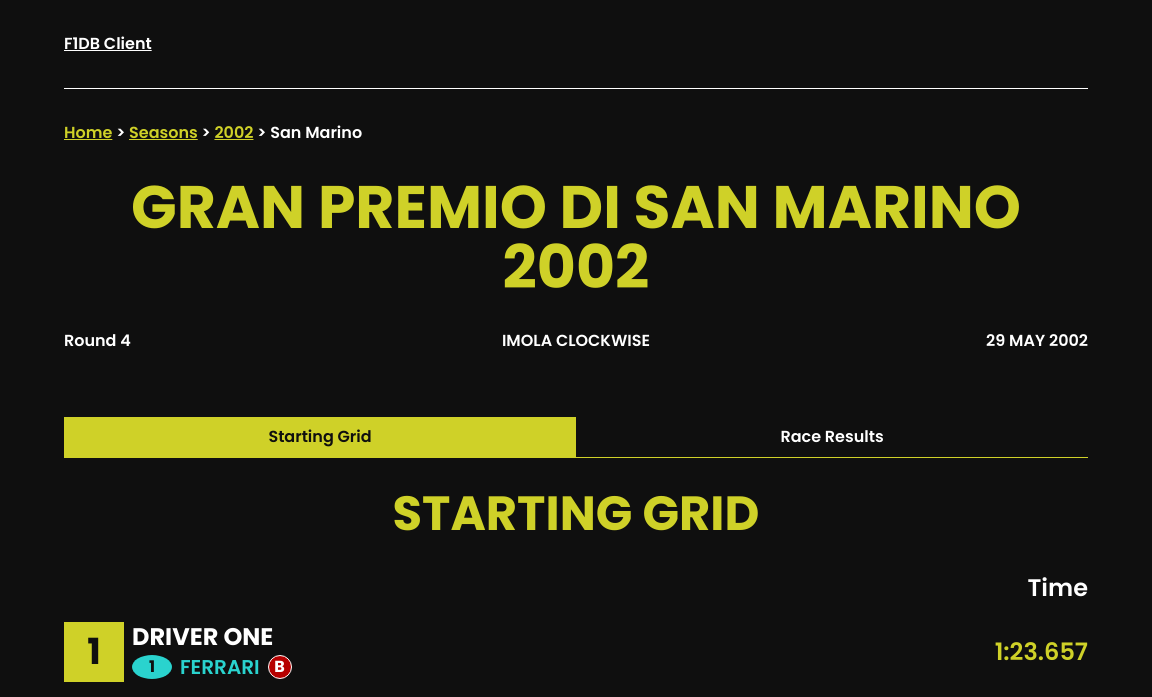
SeasonGrandPrixPage (Race tab, scenario 1) › should display the retirement reason in the race time column if the driver DNS or DNF
This screenshot has width=1152, height=697.
Click the button "Race Results" at coordinates (832, 437), box [576,417,1088,457]
(page scrolled)
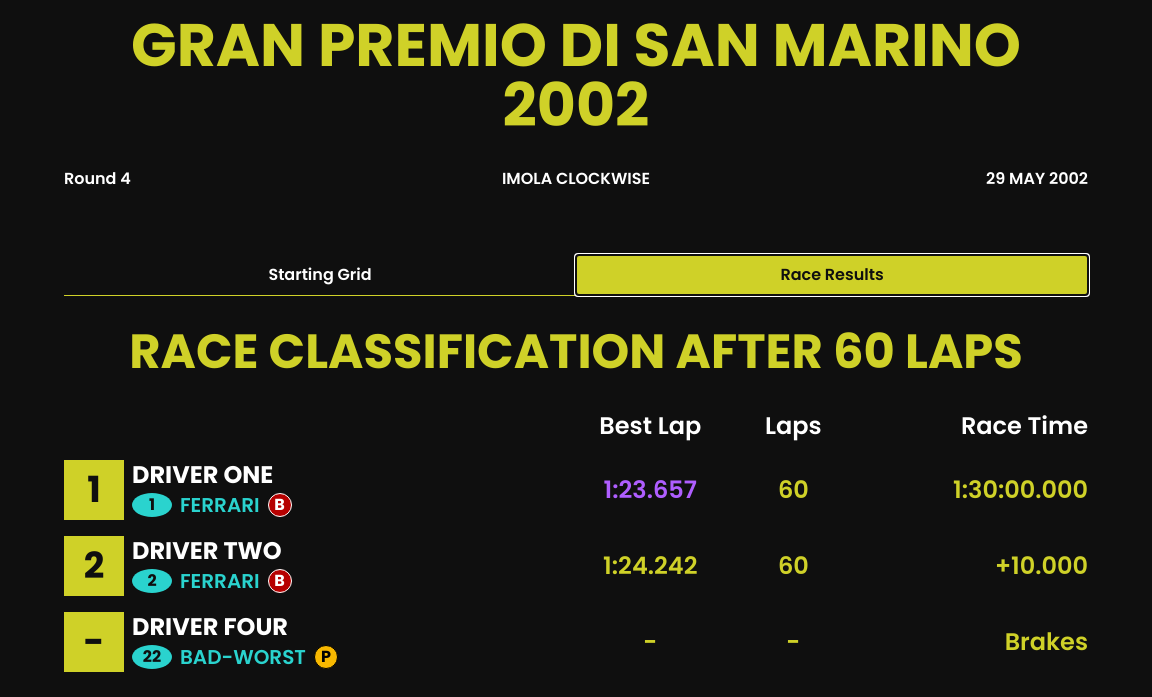
Result: the cell "Brakes" is shown at [844,612,1088,672]
